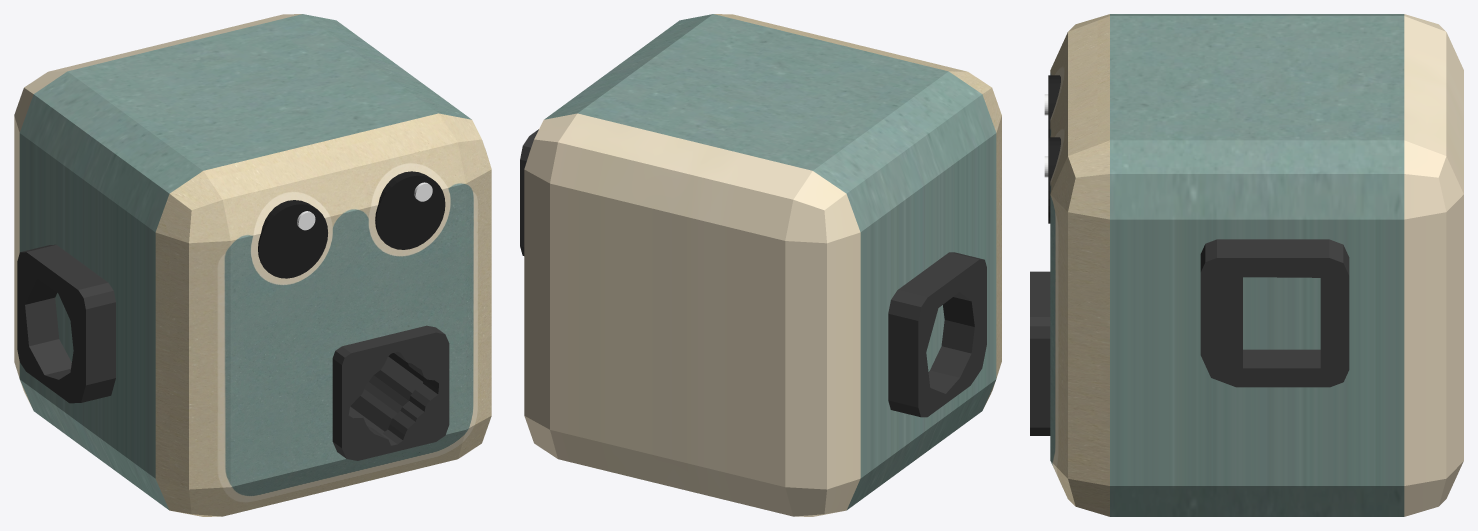
Rendered from cubebot.glb.
The picture shows the model from 3 angles, left to right: view 1: azimuth 30°, elevation 25°; view 2: azimuth 150°, elevation 25°; view 3: azimuth 270°, elevation 25°; orthographic projection. The views are drawn at different scales.
Visible parts, largest first — view 1: Cube; view 2: Cube; view 3: Cube.
Boxes of the visible parts, <box> form: Cube: <box>14,14,491,516</box>; Cube: <box>520,14,1001,516</box>; Cube: <box>1030,14,1463,516</box>.
Bounding box in the file's own units: 2.39 × 2 × 2.1.
4 materials, 1 textured.
